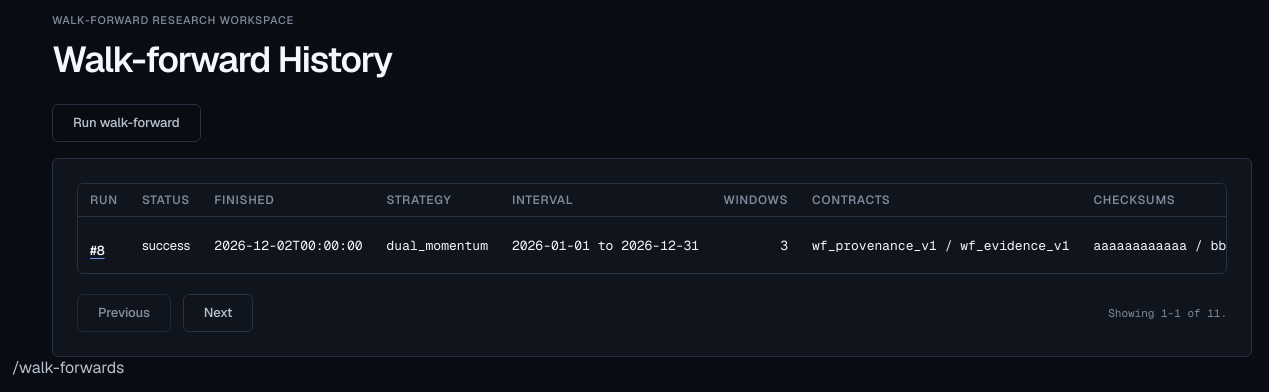
Test: uses the exact total at the final page boundary
Check: the link "#8" is shown, box [90, 241, 104, 261]
Click the button "Next": (218, 313) [183, 294, 253, 332]
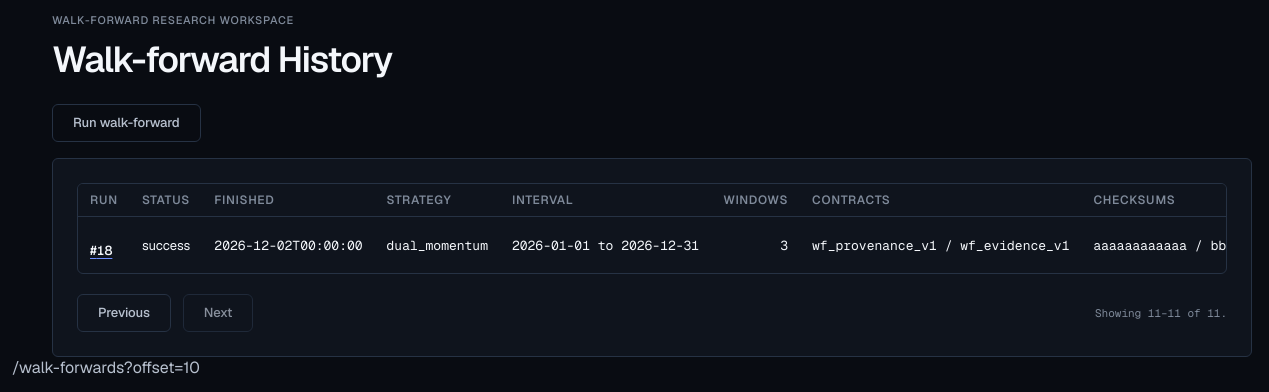
Check: the link "#18" is shown, box [90, 241, 112, 261]
Check: the button "Next" is disabled, box [183, 294, 253, 332]
Check: the button "Previous" is enabled, box [77, 294, 171, 332]
